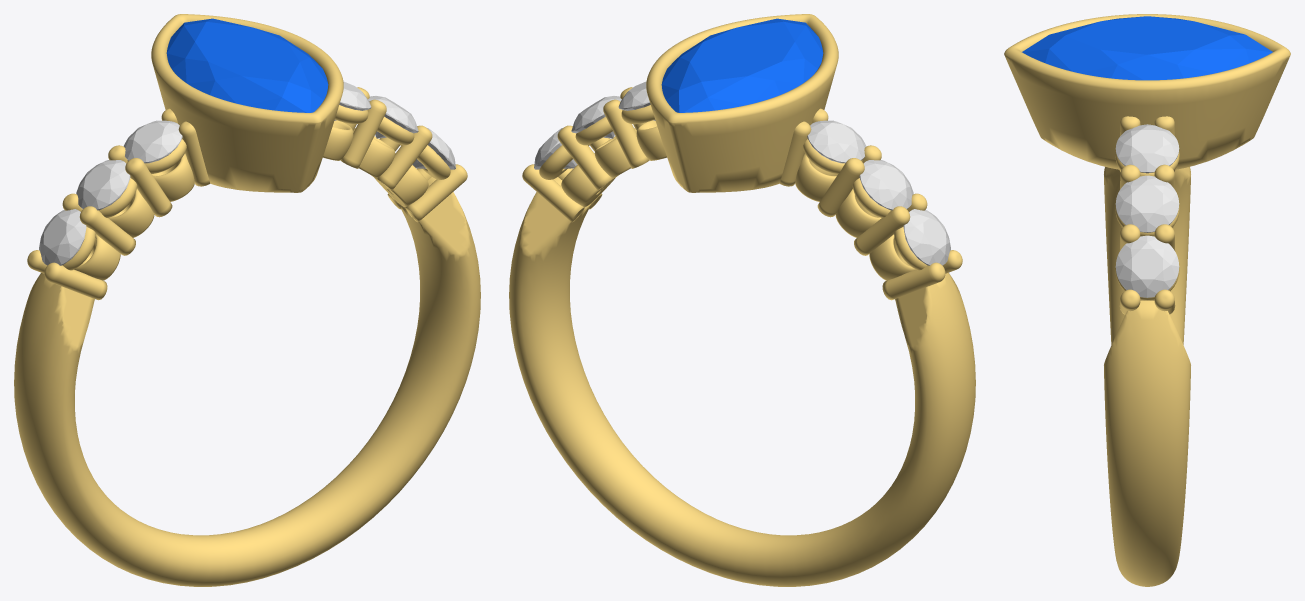
File: bluesapphire-marquise-yellowgold-bezelset-taperedband-7stone.glb
3 renders of one model, left to right at view 1: azimuth 30°, elevation 25°; view 2: azimuth 150°, elevation 25°; view 3: azimuth 270°, elevation 25°, orthographic.
Visible parts, largest first — view 1: metal.002, stone.001, dia.002, dia.015, dia.016, dia.018, dia.019; view 2: metal.002, stone.001, dia.002, dia.015, dia.016, dia.018, dia.019; view 3: metal.002, stone.001, dia.017, dia.018, dia.019.
Boxes of the visible parts, x1=… form: metal.002: x1=14, y1=14, x2=480, y2=586; stone.001: x1=166, y1=18, x2=328, y2=112; dia.002: x1=39, y1=209, x2=86, y2=265; dia.015: x1=76, y1=160, x2=130, y2=210; dia.016: x1=123, y1=120, x2=182, y2=163; dia.018: x1=368, y1=96, x2=418, y2=138; dia.019: x1=334, y1=81, x2=371, y2=120; metal.002: x1=509, y1=14, x2=975, y2=586; stone.001: x1=661, y1=18, x2=823, y2=112; dia.002: x1=903, y1=209, x2=950, y2=265; dia.015: x1=859, y1=160, x2=913, y2=210; dia.016: x1=807, y1=120, x2=866, y2=163; dia.018: x1=571, y1=96, x2=621, y2=138; dia.019: x1=618, y1=81, x2=655, y2=120; metal.002: x1=1004, y1=14, x2=1290, y2=586; stone.001: x1=1022, y1=16, x2=1272, y2=80; dia.017: x1=1115, y1=235, x2=1179, y2=297; dia.018: x1=1115, y1=175, x2=1179, y2=232; dia.019: x1=1115, y1=124, x2=1179, y2=173.
Bounding box in the file's own units: 20.5 × 22.92 × 11.31.
